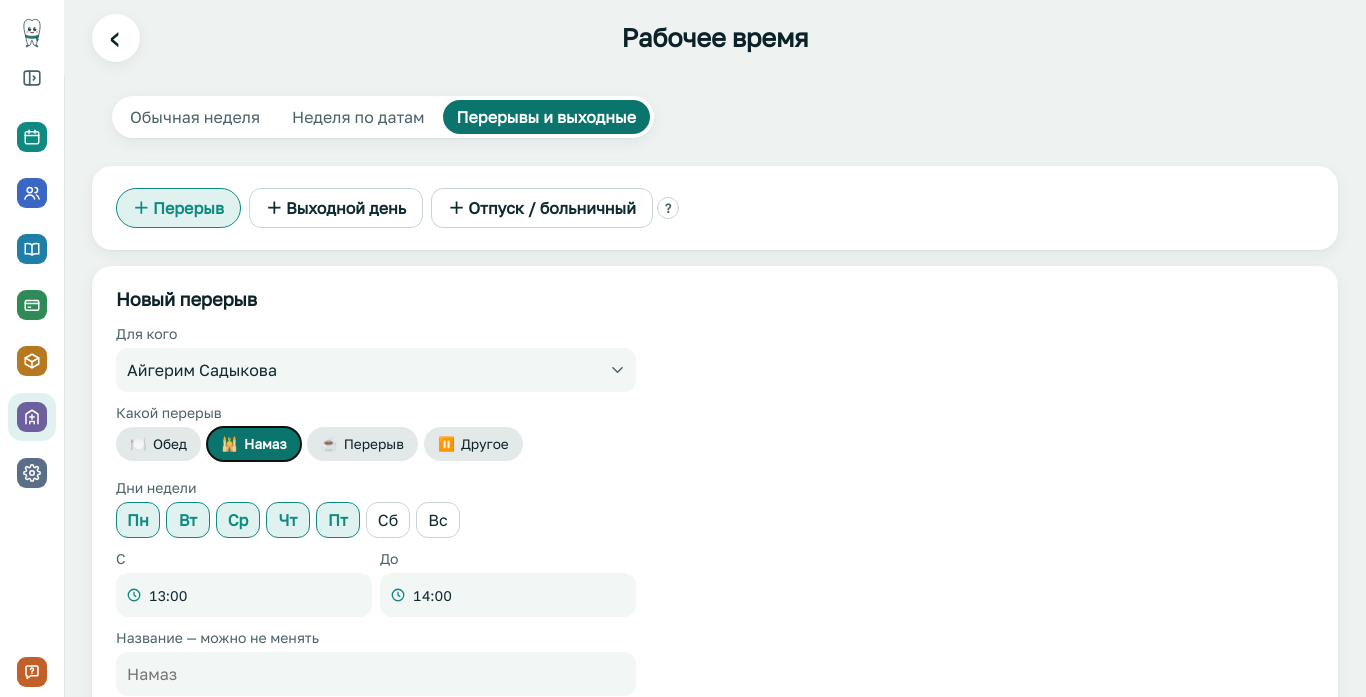
Scenario: «＋ Перерыв»: тип чипом, несколько дней — по записи на день, название не набирать
Earlier steps of the test are not shown.
Click the button with aria-label "Понедельник": (138, 520) x1=116 y1=502 x2=160 y2=538
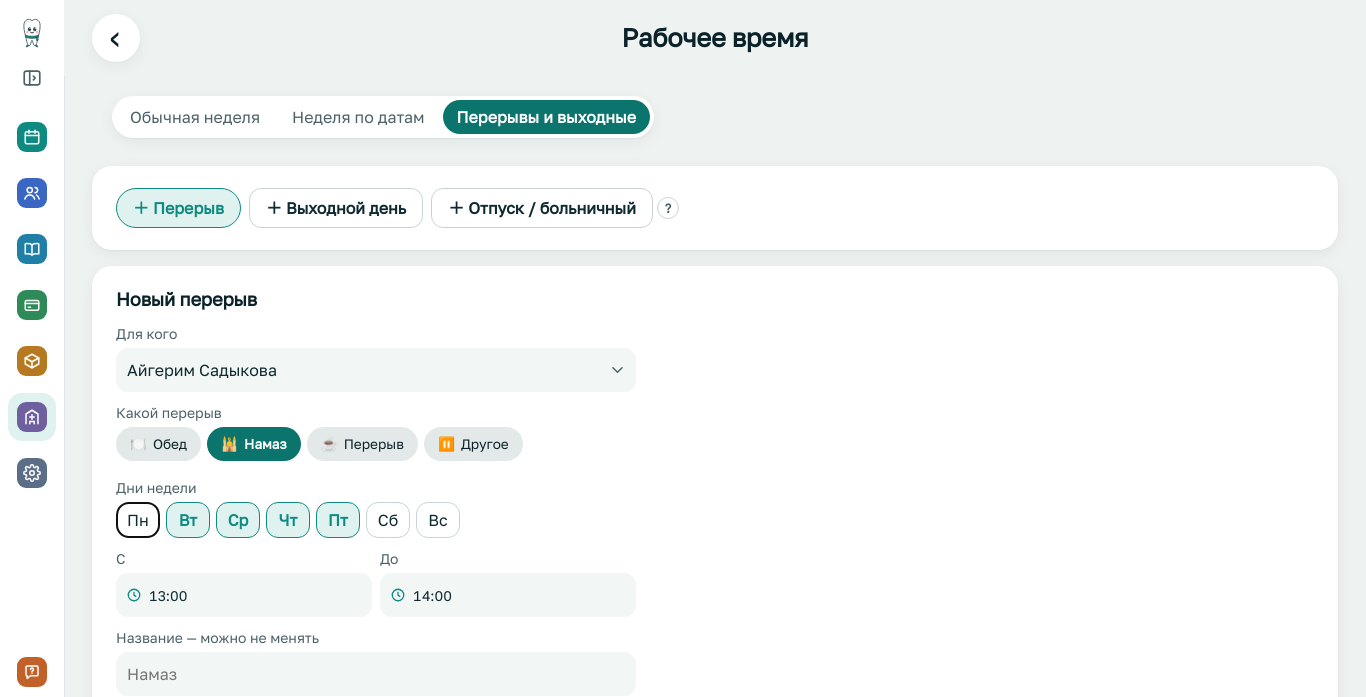
Click the button with aria-label "Вторник": (188, 520) x1=166 y1=502 x2=210 y2=538
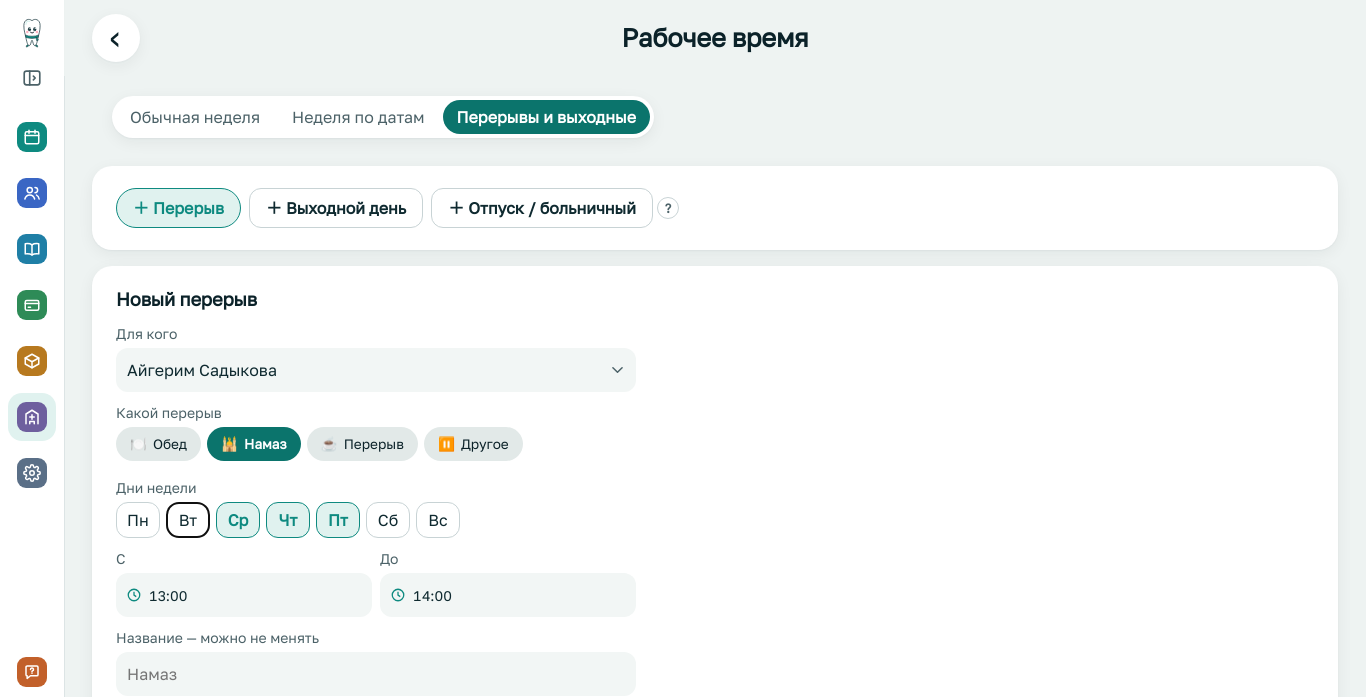
Click the button with aria-label "Среда": (238, 520) x1=216 y1=502 x2=260 y2=538
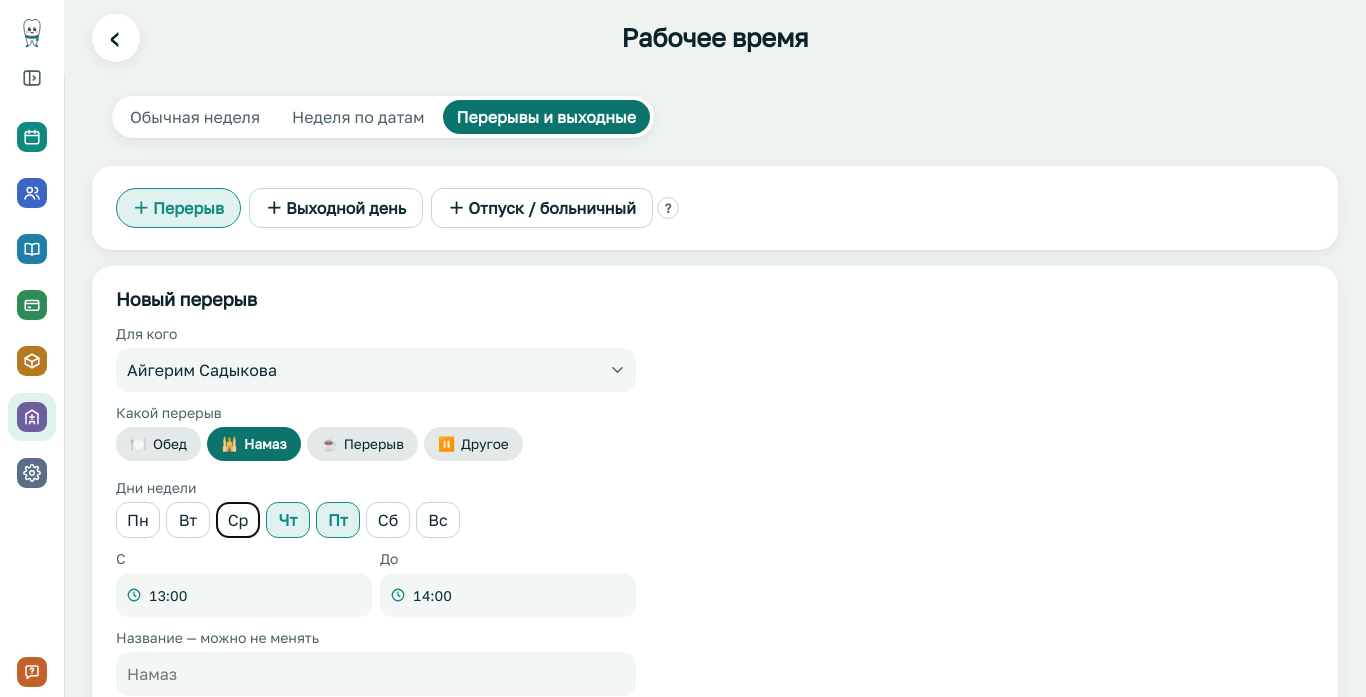
Click the button with aria-label "Четверг": (288, 520) x1=266 y1=502 x2=310 y2=538
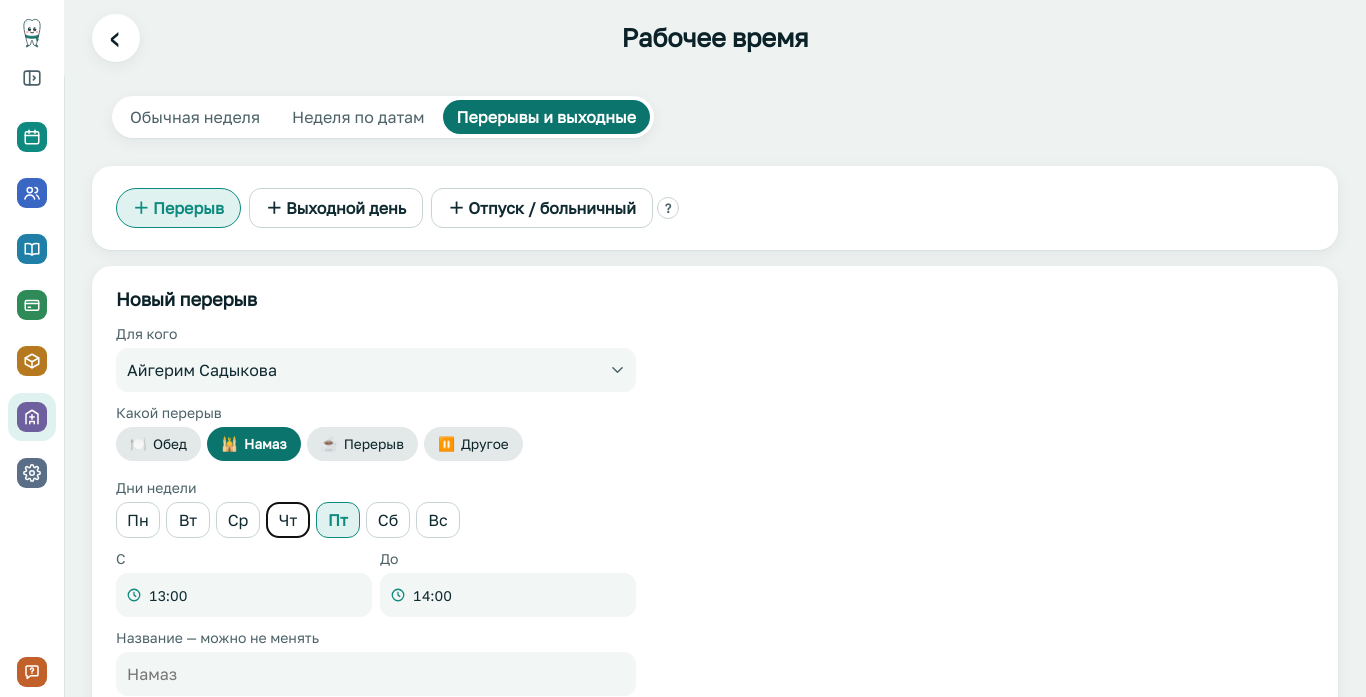
Click the button with aria-label "Суббота": (388, 520) x1=366 y1=502 x2=410 y2=538
(page scrolled)
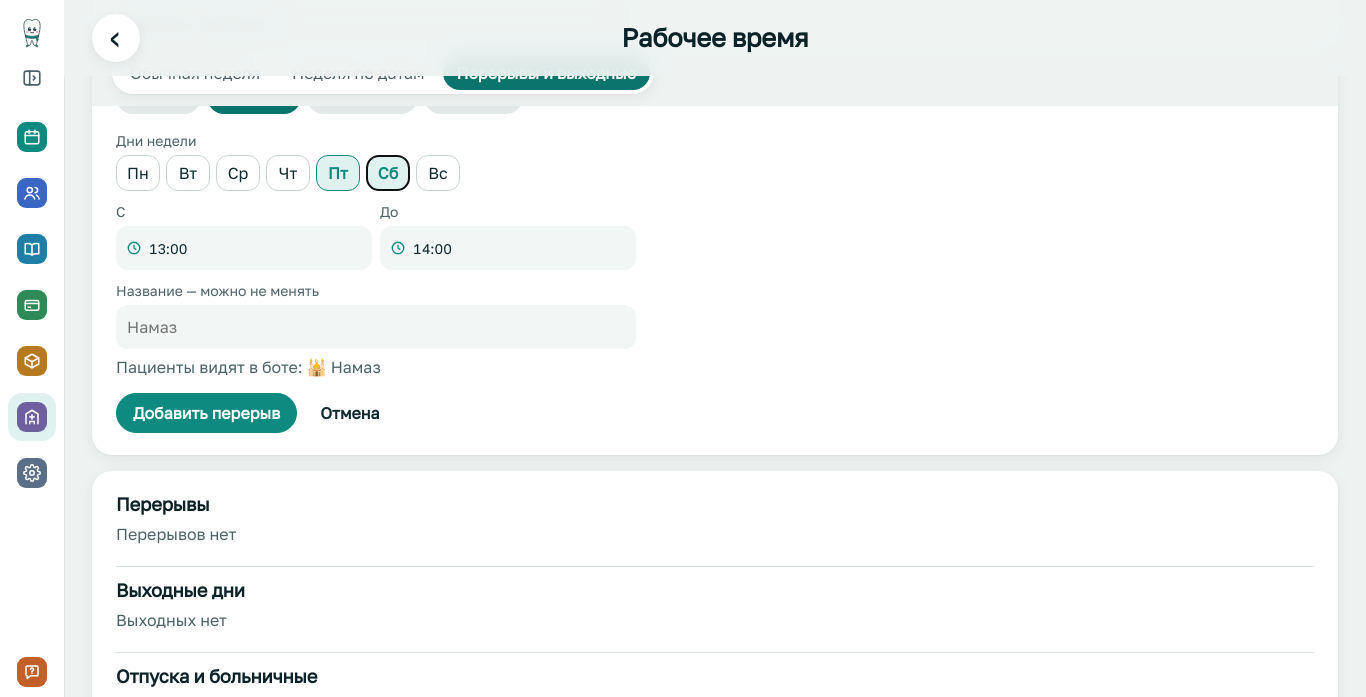
Click the button "Добавить перерыв": (207, 413) x1=116 y1=393 x2=297 y2=433
(page scrolled)
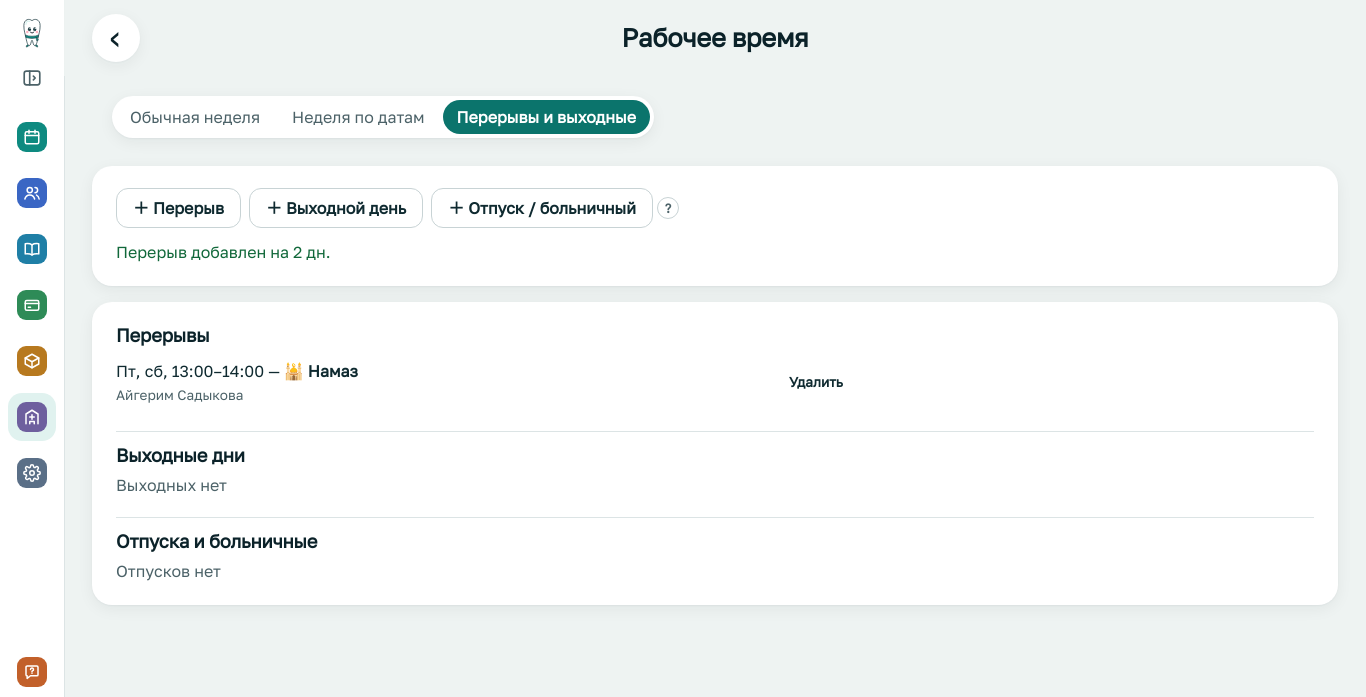
Now the text "Перерыв добавлен на 2 дн." is shown, box x1=116 y1=242 x2=331 y2=262
